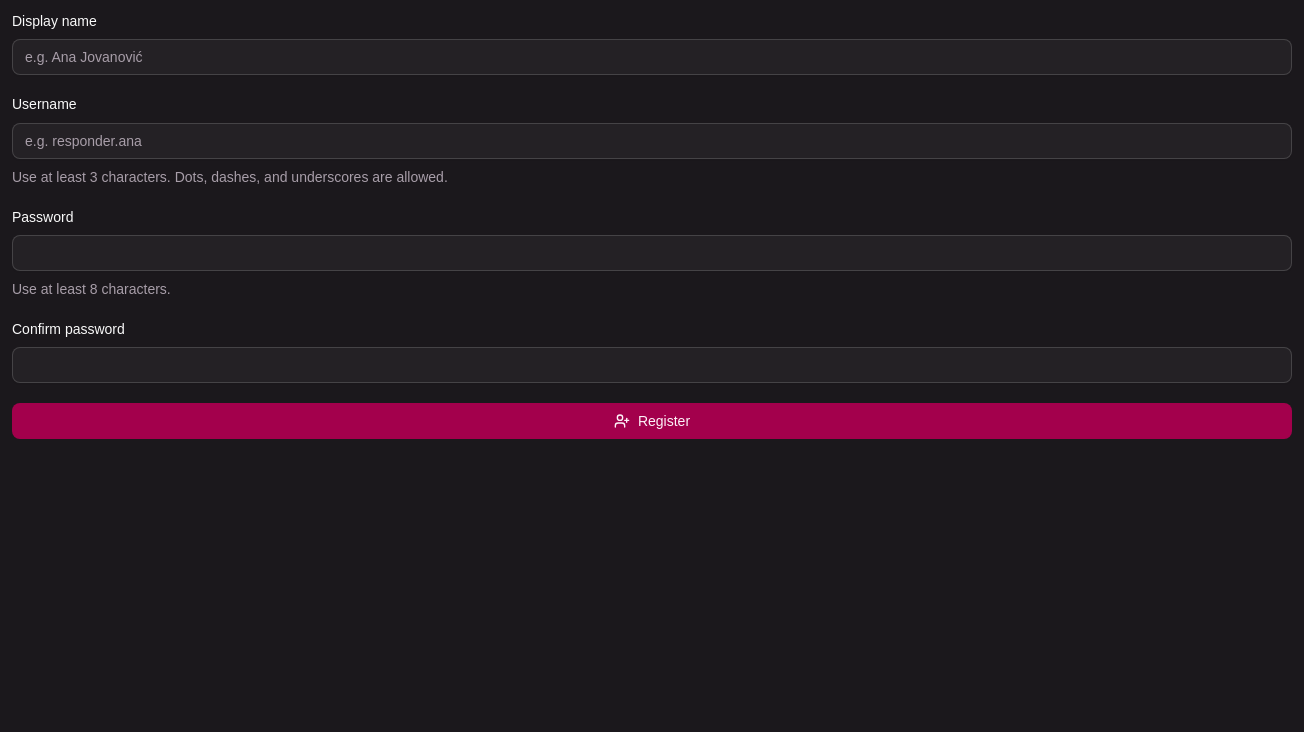
it: RegisterForm › labels the submit action Register and validates all required fields
This screenshot has width=1304, height=732.
Click the button "Register" at coordinates (652, 421), box 12,403 -> 1292,439
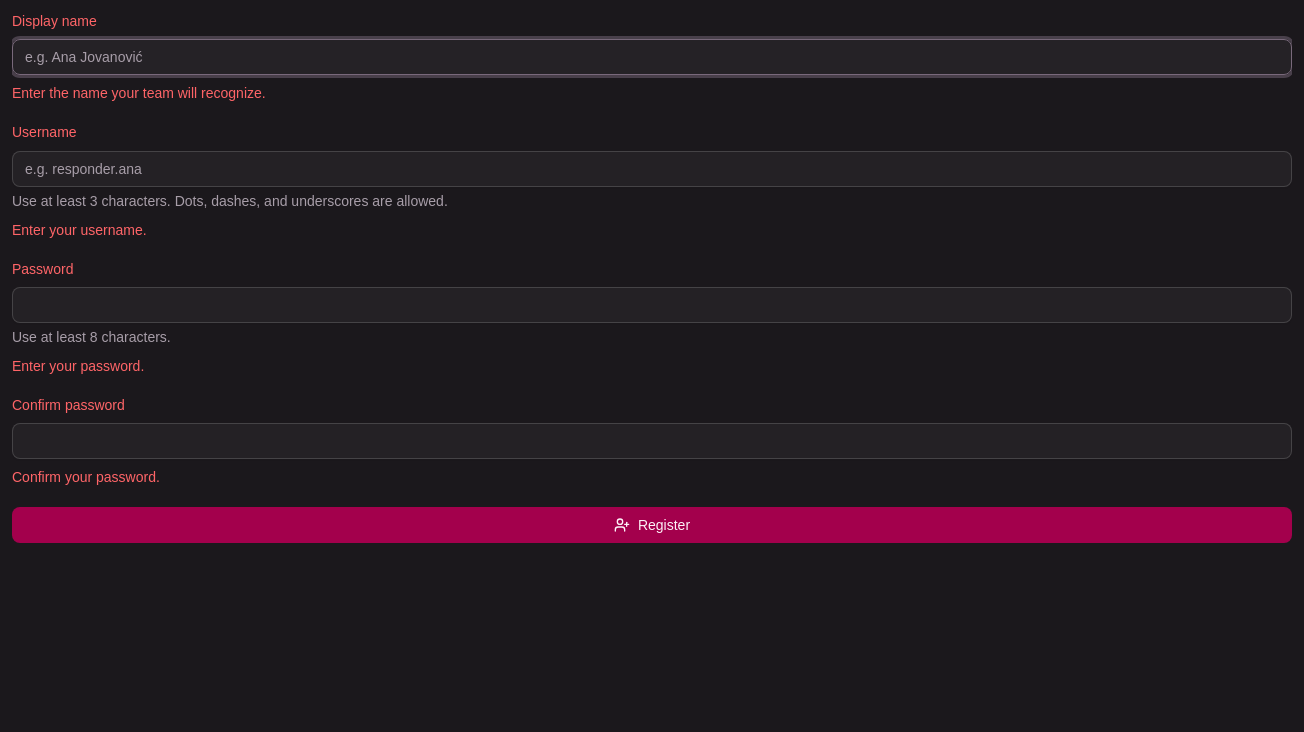
Expected: the text "Enter the name your team will recognize." is shown, 12,85 -> 266,101
Expected: the text "Enter your username." is shown, 12,222 -> 147,238
Expected: the text "Enter your password." is shown, 12,358 -> 144,374
